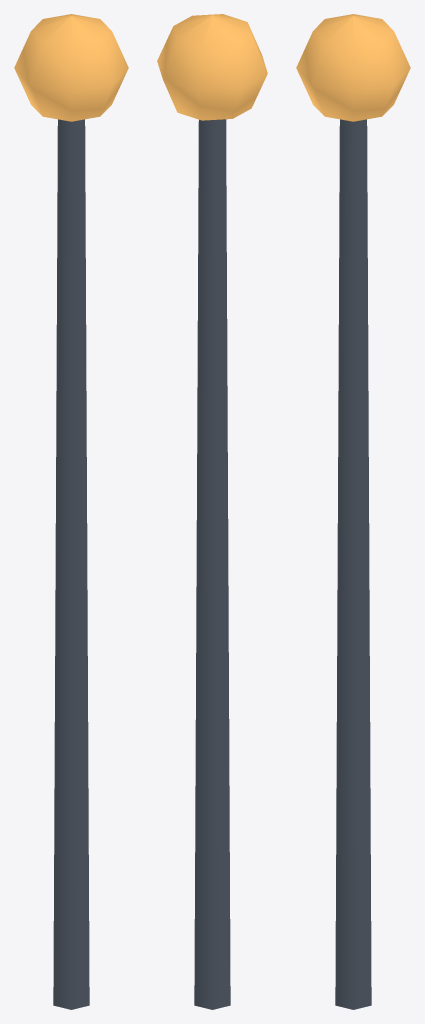
File: prop_lamp_post.glb
3 renders of one model, left to right at view 1: azimuth 90°, elevation 25°; view 2: azimuth 210°, elevation 25°; view 3: azimuth 270°, elevation 25°, orthographic.
Visible parts, largest first — view 1: prop_lamp_post_LOD0; view 2: prop_lamp_post_LOD0; view 3: prop_lamp_post_LOD0.
Part boxes in pixels (<box>): prop_lamp_post_LOD0: <box>14,14,128,1009</box>; prop_lamp_post_LOD0: <box>157,14,267,1009</box>; prop_lamp_post_LOD0: <box>296,14,410,1009</box>.
Size of what is drawn, in the model's own units: 0.4398 by 4.17 by 0.4398.
1 material, 1 textured.
